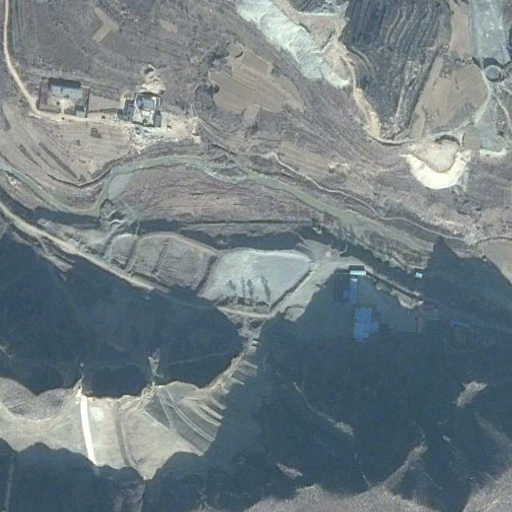tp: (102, 228, 314, 325)
